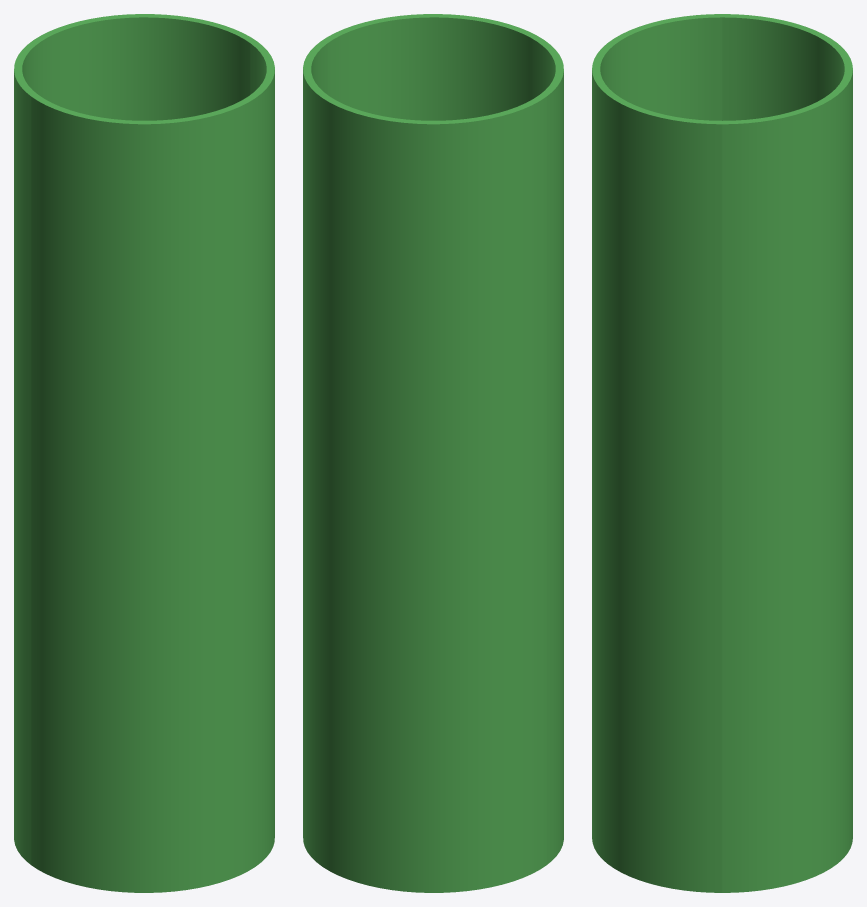
The model's file is gas_dehydration_unit_temperature.glb.
3 views of the same model, side by side, from view 1: azimuth 30°, elevation 25°; view 2: azimuth 150°, elevation 25°; view 3: azimuth 270°, elevation 25° (orthographic).
Parts seen in each view (by area): view 1: temperature__front, temperature__back; view 2: temperature__back, temperature__front; view 3: temperature__back, temperature__front.
Boxes of the visible parts, bbox=[...] form: temperature__front: bbox=[31, 41, 274, 892]; temperature__back: bbox=[14, 14, 256, 864]; temperature__back: bbox=[303, 41, 546, 892]; temperature__front: bbox=[321, 14, 563, 864]; temperature__back: bbox=[722, 14, 852, 892]; temperature__front: bbox=[592, 14, 722, 892].
Size of the model in its own units: 0.8 by 2.6 by 0.8.
